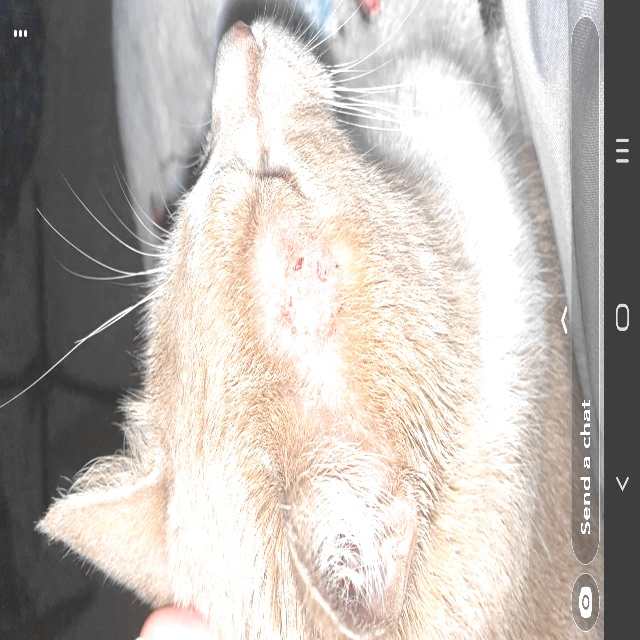ringworm: (271, 242, 339, 398)
